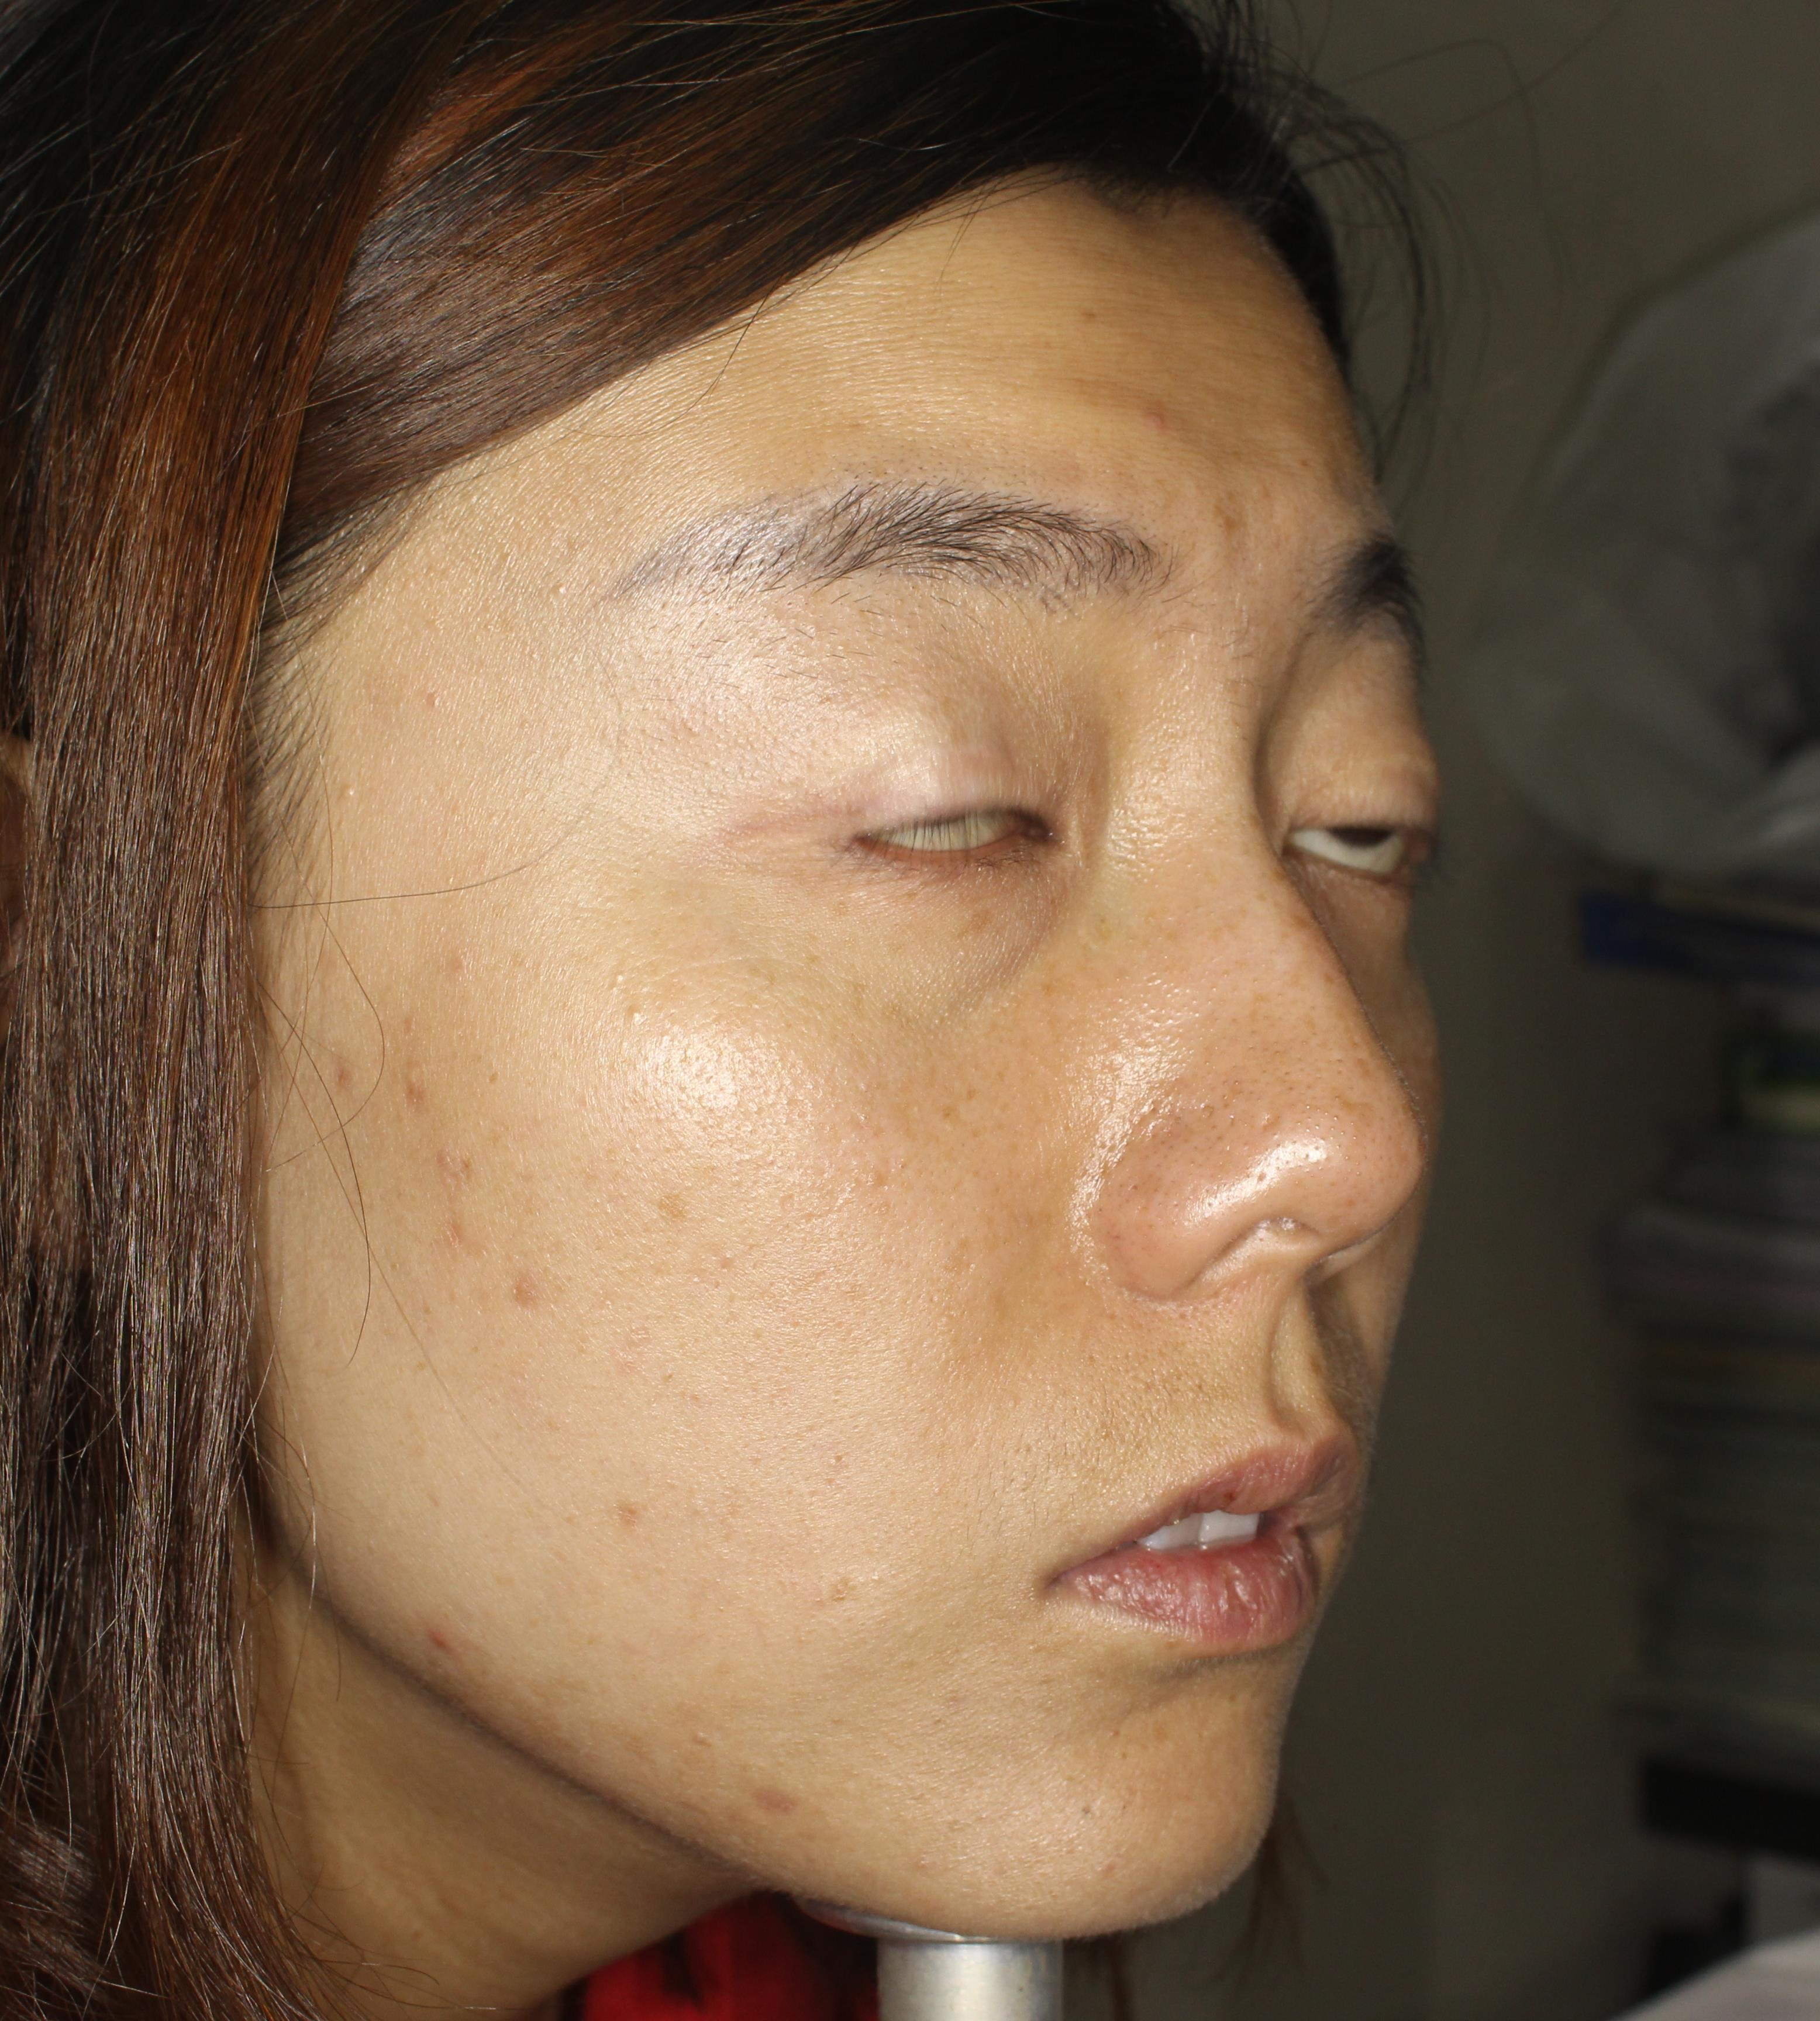fore: (727, 1751, 829, 1872), (418, 1603, 459, 1710)
